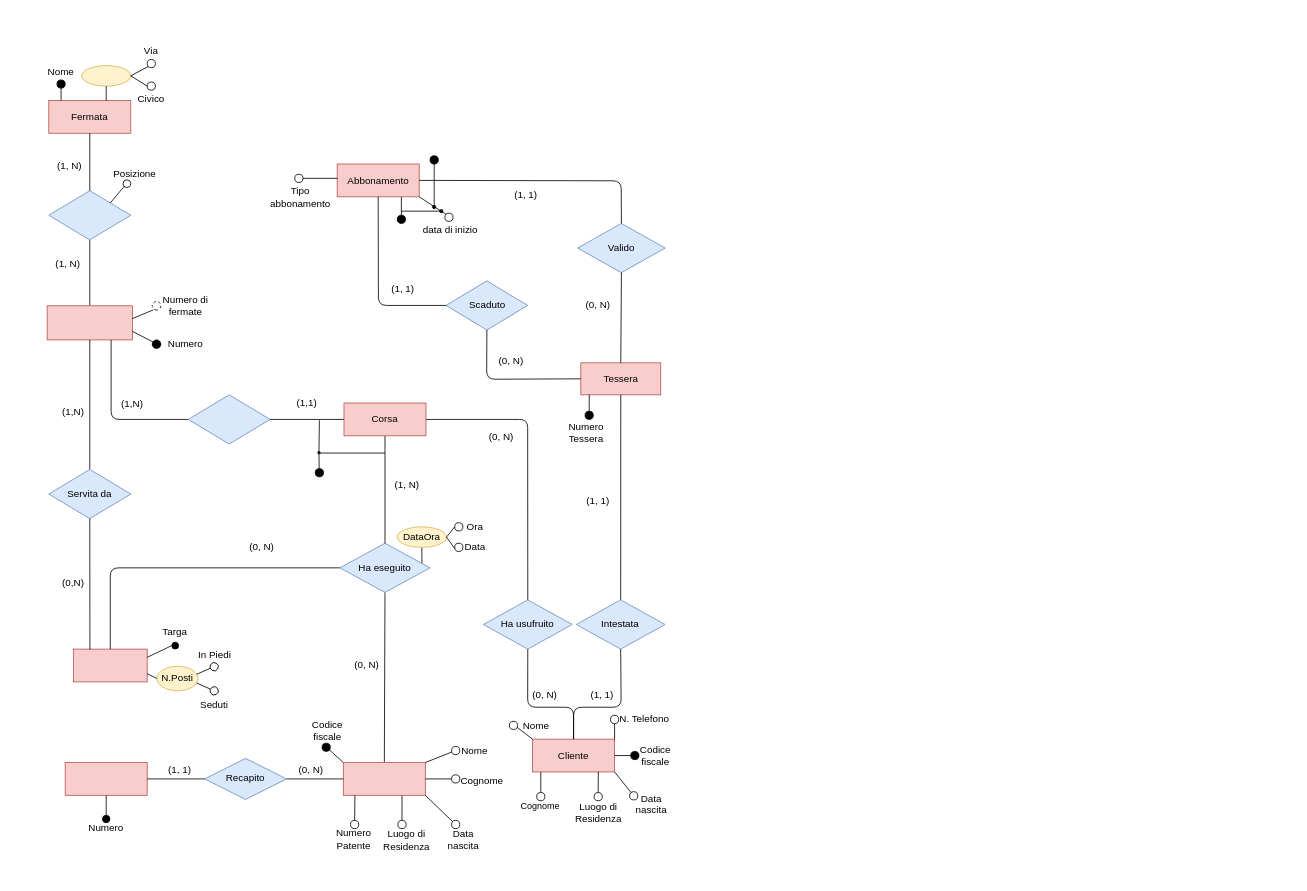
The diagram is 1307 pixels wide and 891 high, and some of its shapes have lost their labels. Here are the shapes that lost their labels. From the top down, the centre of each, then its label:
At [106,75]: "Indirizzo".
At [89,215]: "Composto".
At [89,322]: "Linea di trasporto urbano".
At [228,419]: "Istanza di".
At [110,665]: "Autobus".
At [105,778]: "Telefono".
At [384,778]: "Autista".
